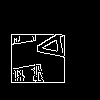A: (25, 25, 75, 67)
